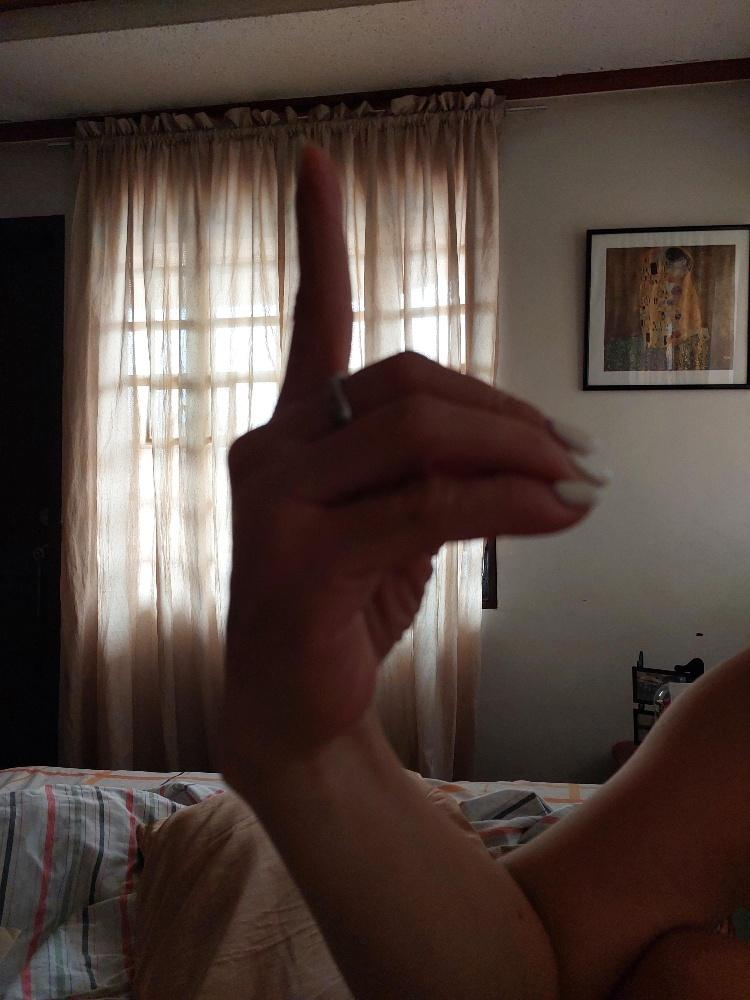d: (221, 129, 615, 754)
